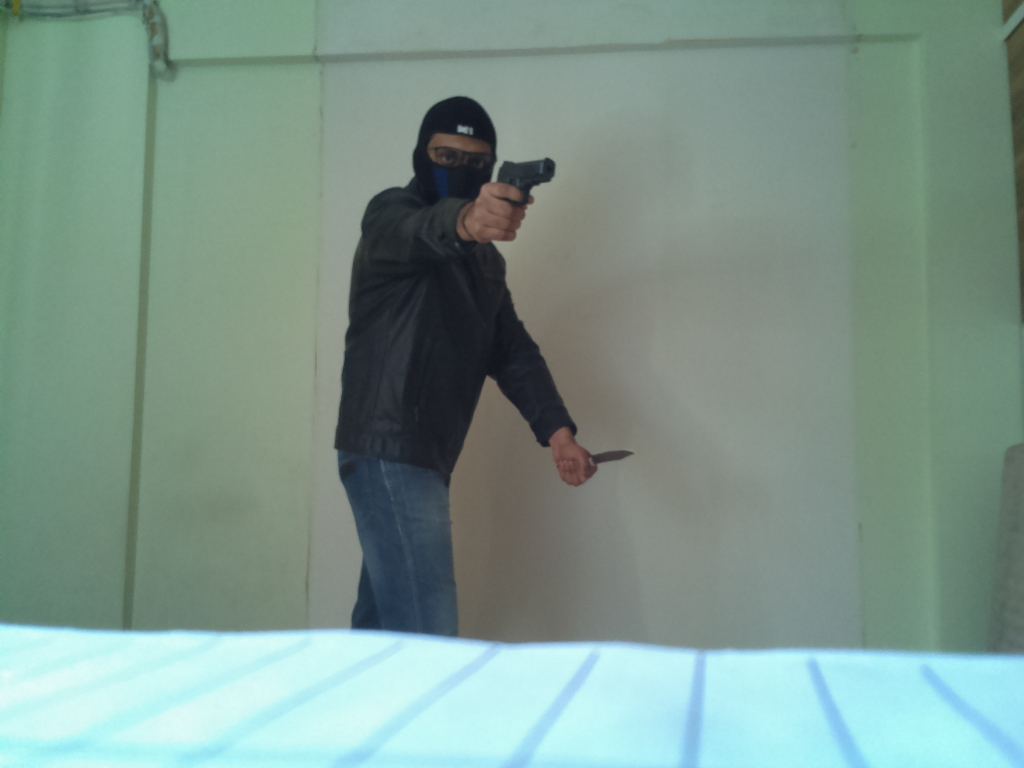gun: (495, 152, 559, 214)
knife: (582, 446, 635, 472)
